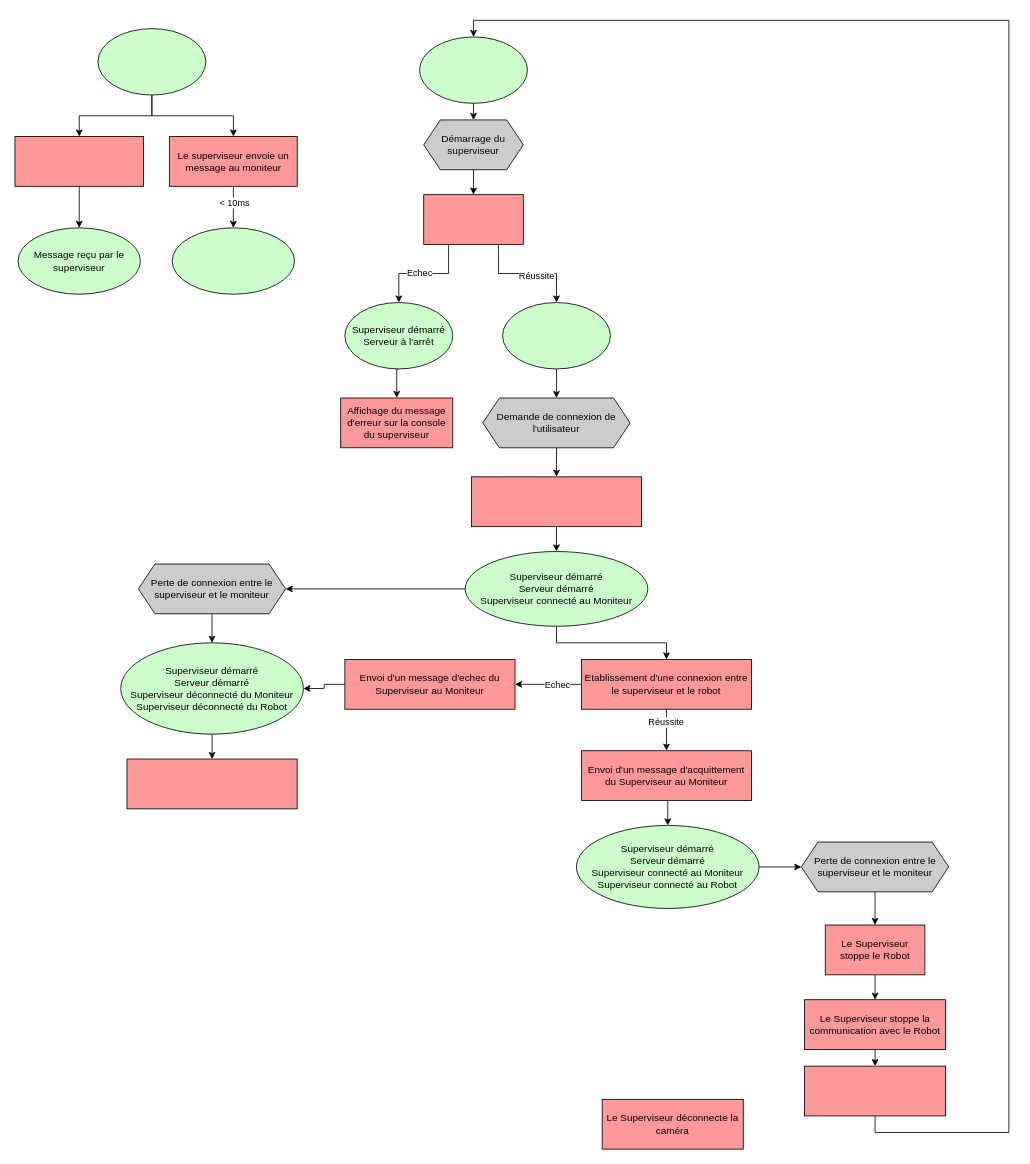
This 1030x1164 diagram has some shape labels left out. The shapes that lost their labels are listed below. From the top down, each one's centre as x and y in pixels, then its label:
At [151,61]: "Superviseur connecté au moniteur".
At [473,69]: "Superviseur à l'arrêt Serveur à l'arrêt".
At [79,161]: "Le moniteur envoie un message au superviseur".
At [473,219]: "Lancement serveur".
At [233,260]: "Message reçu par le moniteur".
At [556,335]: "Superviseur démarré Serveur démarré".
At [556,501]: "Etablissement d'une connexion entre le moniteur et le superviseur via le socket".
At [875,1090]: "Le Superviseur ferme le Serveur".
